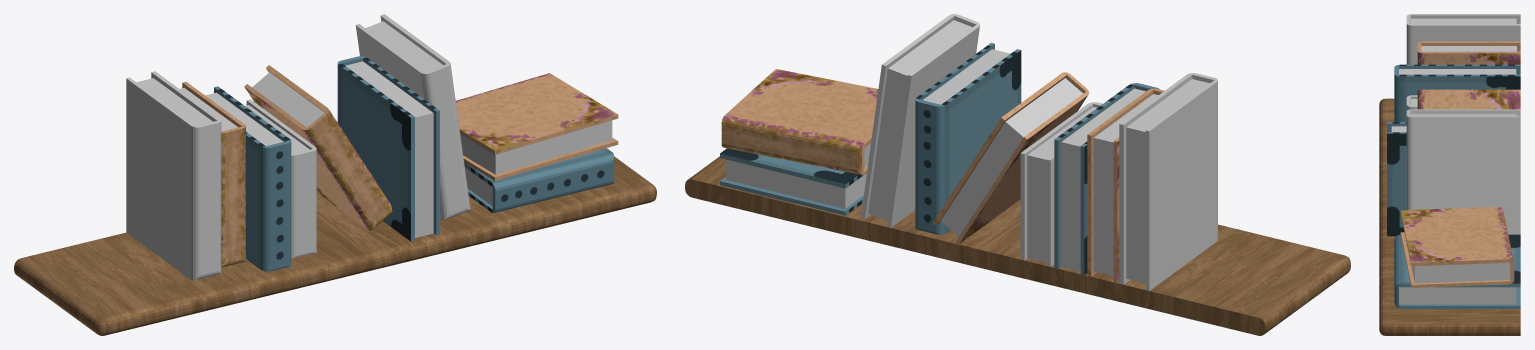
File: libros_y_repisa.obj
3 renders of one model, left to right at view 1: azimuth 30°, elevation 25°; view 2: azimuth 150°, elevation 25°; view 3: azimuth 270°, elevation 25°, orthographic. The views are drawn at different scales.
Visible parts, largest first — view 1: Cube.013; view 2: Cube.013; view 3: Cube.013.
Boxes of the visible parts, x1=… form: Cube.013: x1=14, y1=14, x2=656, y2=335; Cube.013: x1=685, y1=14, x2=1350, y2=335; Cube.013: x1=1379, y1=14, x2=1520, y2=335.
Size of the model in its own units: 5.81 by 1.72 by 1.53.
